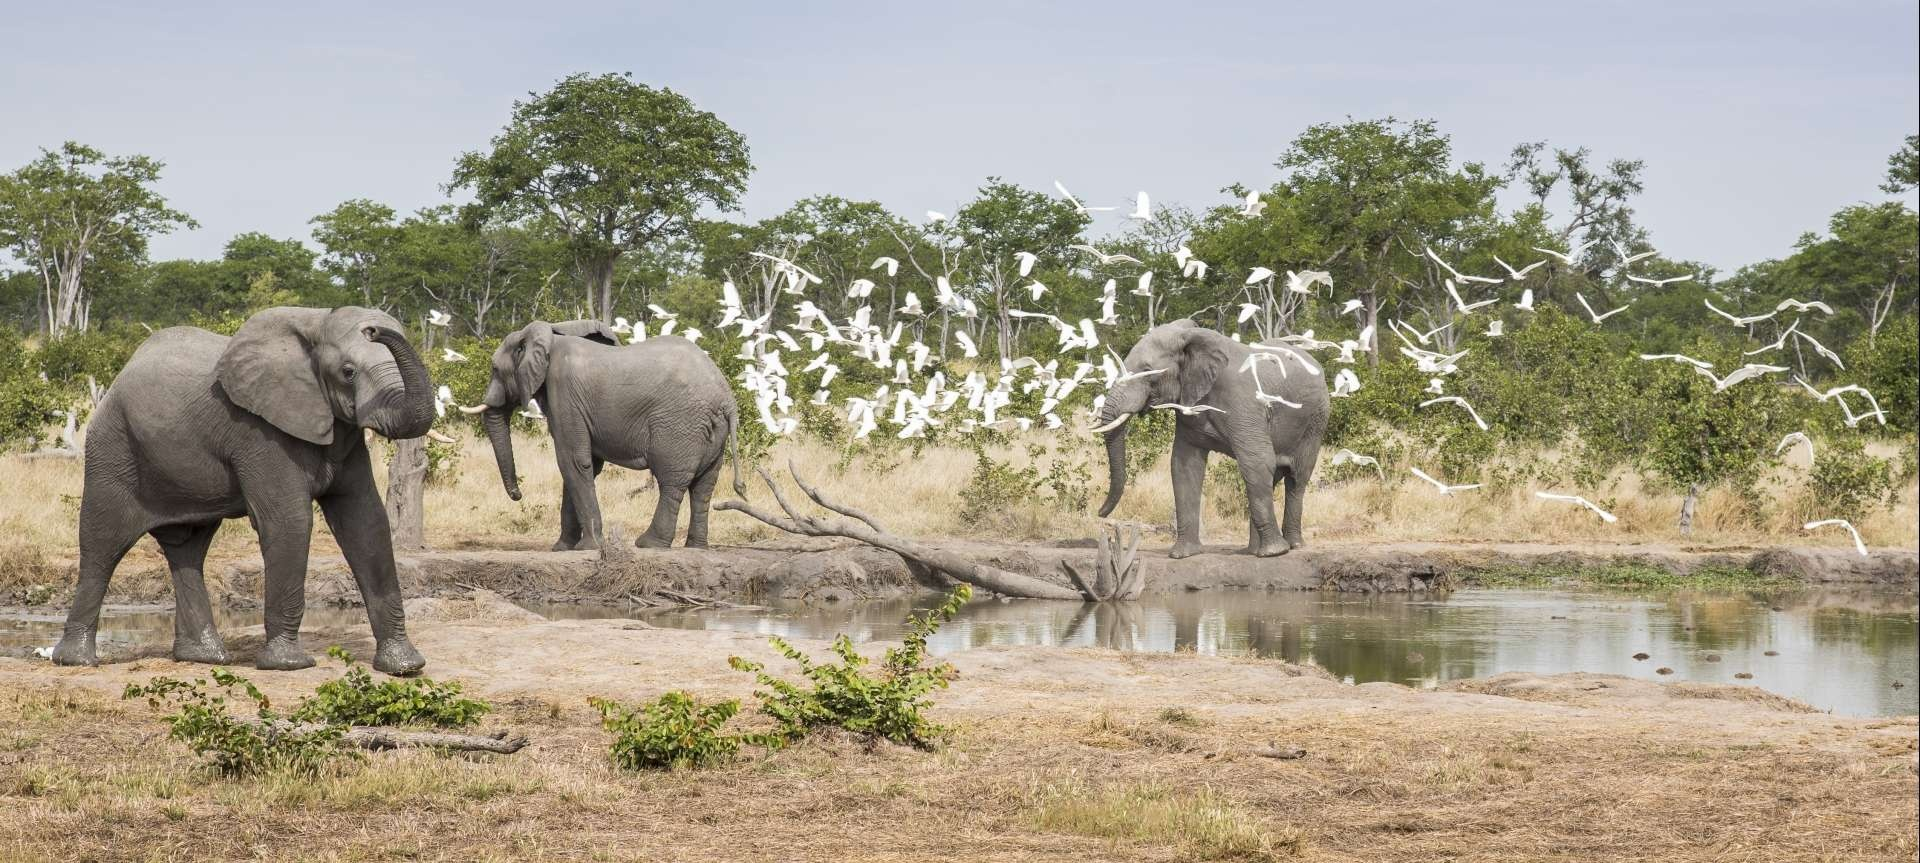elephant: (49, 299, 432, 679), (451, 315, 744, 541), (1095, 317, 1330, 552)
